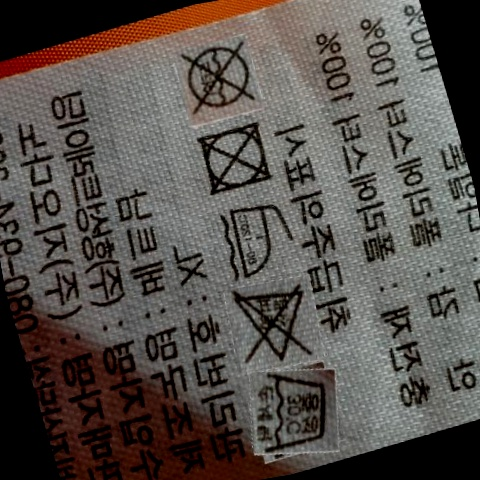DN_dry_clean: (174, 38, 261, 117)
DN_tumble_dry: (191, 118, 276, 198)
hand_wash: (240, 363, 340, 463)
iron_low: (214, 193, 296, 286)
non_chlorine_bleach: (225, 279, 312, 371)
